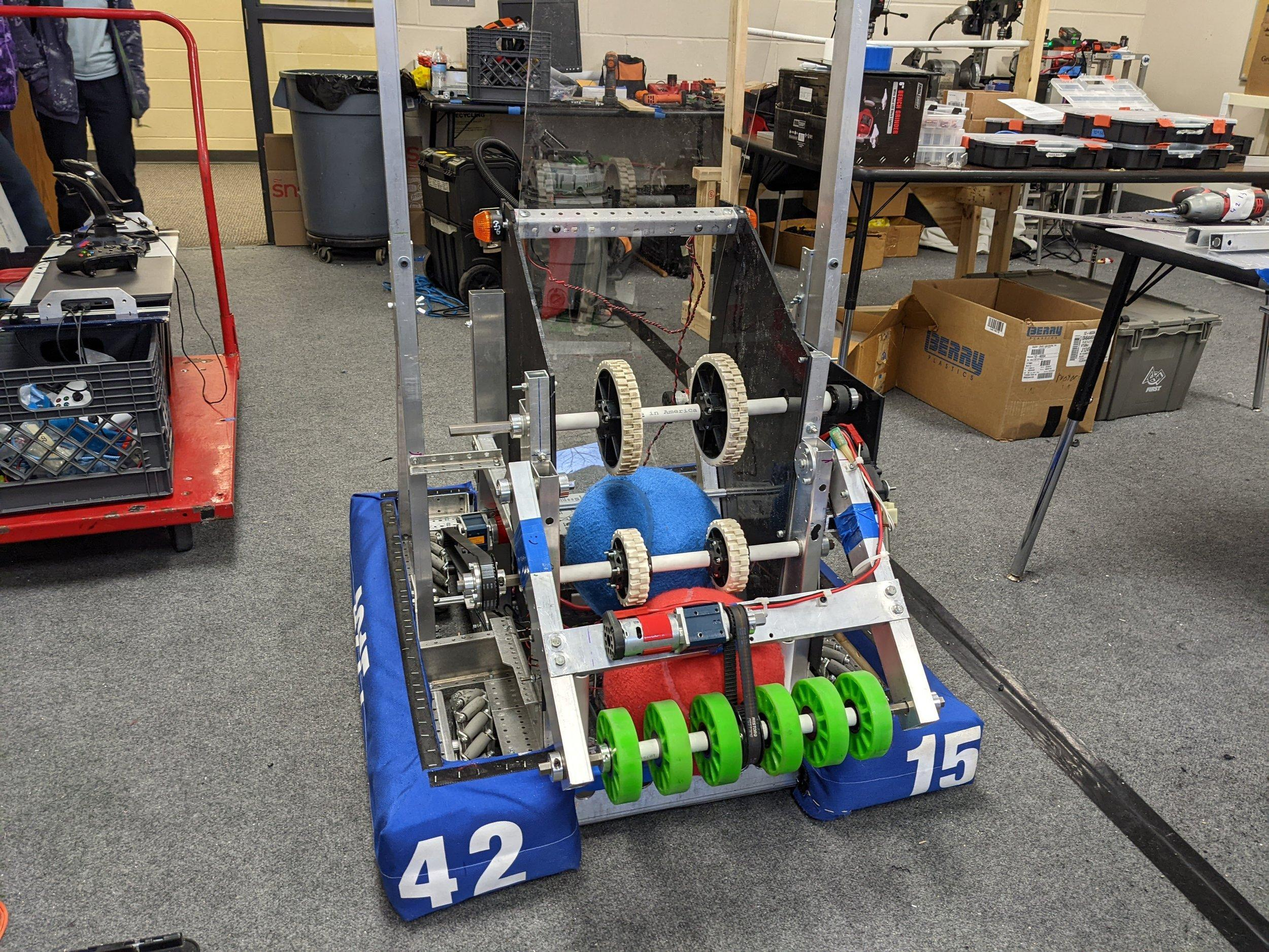robot: (344, 0, 990, 936)
